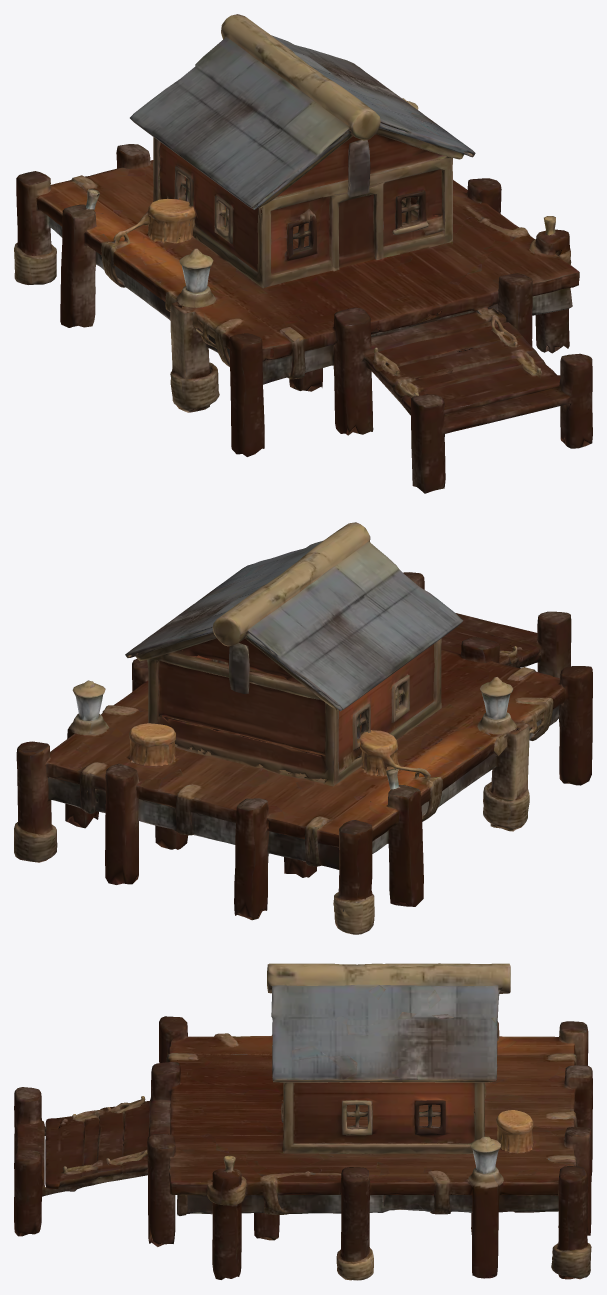
Rendered from dock.glb.
3 views of the same model, one above another, from view 1: azimuth 30°, elevation 25°; view 2: azimuth 150°, elevation 25°; view 3: azimuth 270°, elevation 25° (orthographic). The views are drawn at different scales.
Parts seen in each view (by area): view 1: world; view 2: world; view 3: world.
Boxes of the visible parts, x1=… form: world: x1=14, y1=14, x2=592, y2=493; world: x1=14, y1=522, x2=592, y2=934; world: x1=14, y1=963, x2=592, y2=1280.
Bounding box in the file's own units: 0.6712 × 0.4576 × 1.
1 material, 1 textured.
